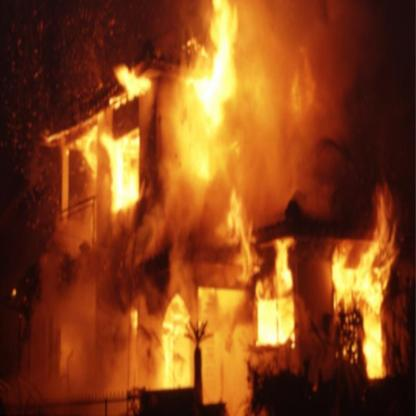fire: (124, 266, 253, 401), (326, 200, 399, 379), (171, 3, 240, 181), (78, 66, 149, 208), (242, 231, 300, 337)
